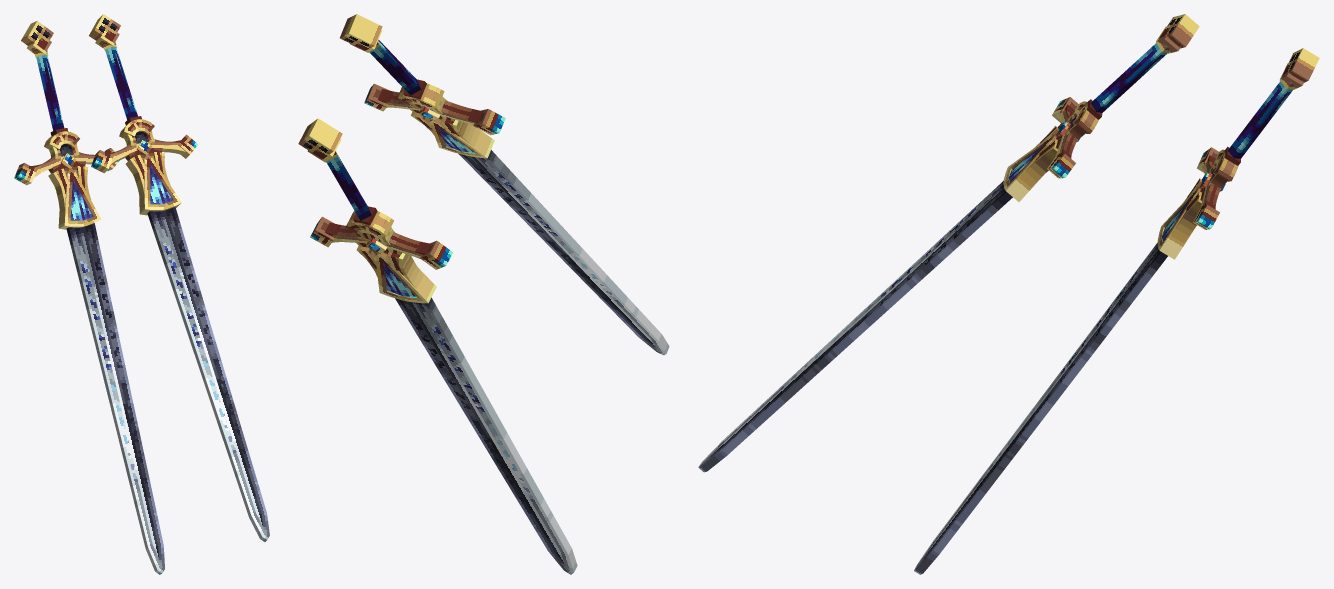
Rendered from will_of_king.glb.
3 views of the same model, side by side, from view 1: azimuth 30°, elevation 25°; view 2: azimuth 150°, elevation 25°; view 3: azimuth 270°, elevation 25° (orthographic). The views are drawn at different scales.
Parts seen in each view (by area): view 1: off__Tool_L, main__Tool_R; view 2: off__Tool_L, main__Tool_R; view 3: main__Tool_R, off__Tool_L.
Part boxes in pixels (x1,y1,x2,y2): off__Tool_L: [14, 20, 164, 574]; main__Tool_R: [89, 14, 269, 541]; off__Tool_L: [298, 118, 577, 574]; main__Tool_R: [340, 14, 669, 355]; main__Tool_R: [698, 14, 1199, 472]; off__Tool_L: [914, 48, 1319, 574].
Bounding box in the file's own units: 0.6272 × 2.36 × 2.25.
Materials: 1 (1 with a texture image).
